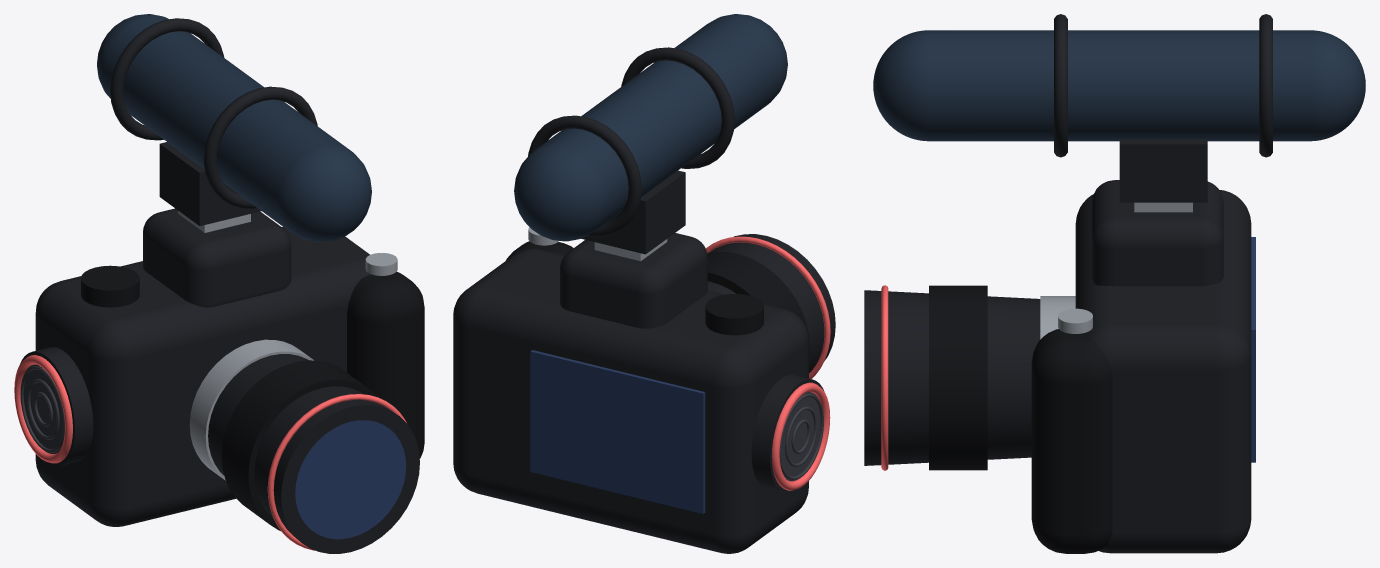
The model's file is multimedia_camera.glb.
3 renders of one model, left to right at view 1: azimuth 30°, elevation 25°; view 2: azimuth 150°, elevation 25°; view 3: azimuth 270°, elevation 25°, orthographic. The views are drawn at different scales.
Visible parts, largest first — view 1: Boitier, Micro, Objectif, Prisme, Lentille, Poignee, Bague_zoom, Support, Monture, Suspension_arriere, Suspension_avant, Haut_parleur (+8 smaller); view 2: Boitier, Micro, Ecran, Prisme, Objectif, Support, Bague_zoom, Suspension_arriere, Suspension_avant, Haut_parleur, Molette, Cache_hp (+6 smaller); view 3: Micro, Boitier, Objectif, Poignee, Prisme, Bague_zoom, Support, Suspension_arriere, Suspension_avant, Liseré, Ecran, Monture (+2 smaller).
Part boxes in pixels (x1,y1,x2,y2): Boitier: (35,227,370,526); Micro: (97,14,371,242); Objectif: (208,354,419,553); Prisme: (143,208,291,307); Lentille: (295,420,406,539); Poignee: (347,271,424,458); Bague_zoom: (221,360,378,530); Support: (159,142,261,225); Monture: (189,339,313,480); Suspension_arriere: (110,18,224,140); Suspension_avant: (203,86,317,208); Haut_parleur: (20,347,93,466); Boitier: (453,248,808,553); Micro: (514,14,787,241); Ecran: (530,350,705,513); Prisme: (560,233,707,328); Objectif: (707,234,835,372); Support: (581,170,685,254); Bague_zoom: (707,251,809,357); Suspension_arriere: (528,115,641,237); Suspension_avant: (621,47,734,168); Haut_parleur: (751,375,824,493); Molette: (705,294,763,335); Cache_hp: (771,382,830,490); Micro: (873,30,1365,141); Boitier: (1075,190,1251,553); Objectif: (864,290,1040,465); Poignee: (1031,329,1112,553); Prisme: (1091,180,1223,286); Bague_zoom: (929,285,987,470); Support: (1119,139,1207,202); Suspension_arriere: (1259,14,1272,157); Suspension_avant: (1054,14,1067,157); Liseré: (881,285,888,470); Ecran: (1251,237,1255,462); Monture: (1040,296,1075,339).
Bounding box in the file's own units: 0.1453 × 0.1745 × 0.1711.
